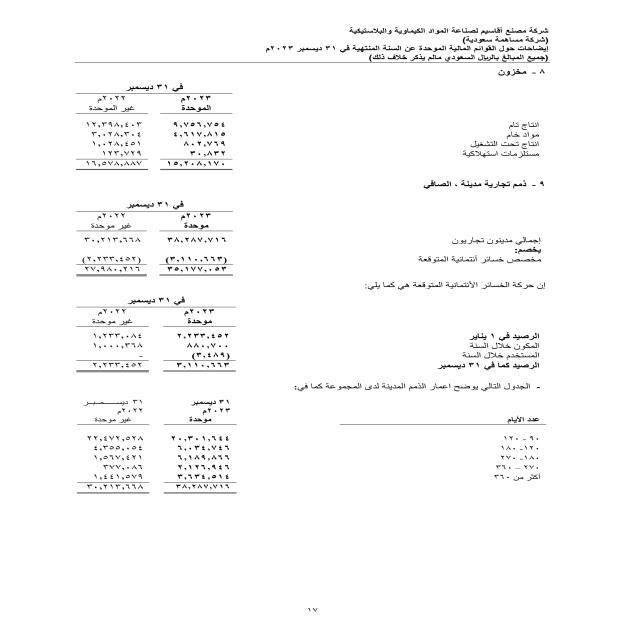notes: (447, 44, 558, 54)
table: (52, 73, 258, 176), (43, 187, 253, 286), (45, 292, 244, 390), (73, 395, 245, 502)
